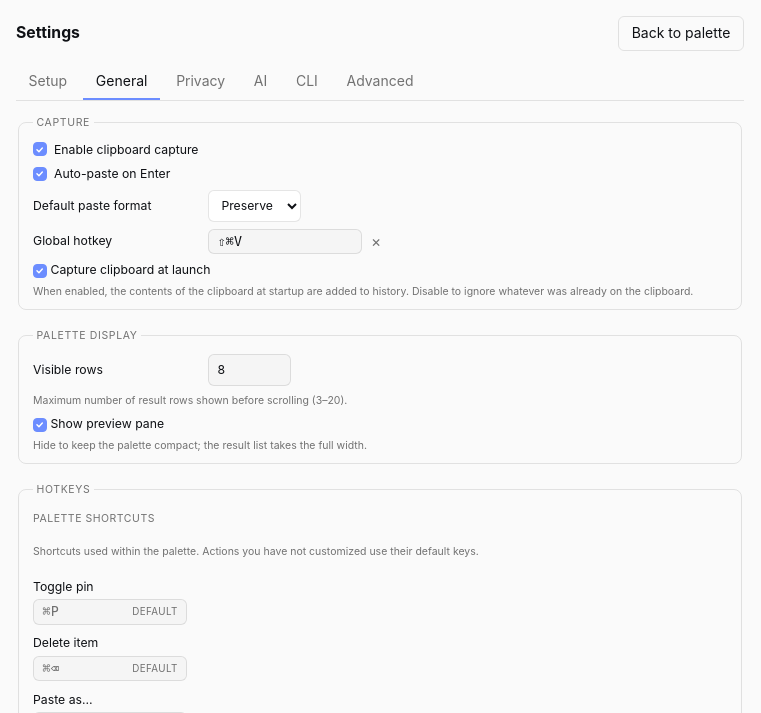
Scenario: SettingsView › still classifies a later external update correctly after the success follow-up dedups
Expected: the button "Back to palette" is shown, left=618, top=16, right=744, bottom=51
# User flips autoPaste (dirty edit). Dispatched as L.
Click the checkbox labelled "Auto-paste on Enter" at coordinates (40, 174), box left=33, top=167, right=47, bottom=181
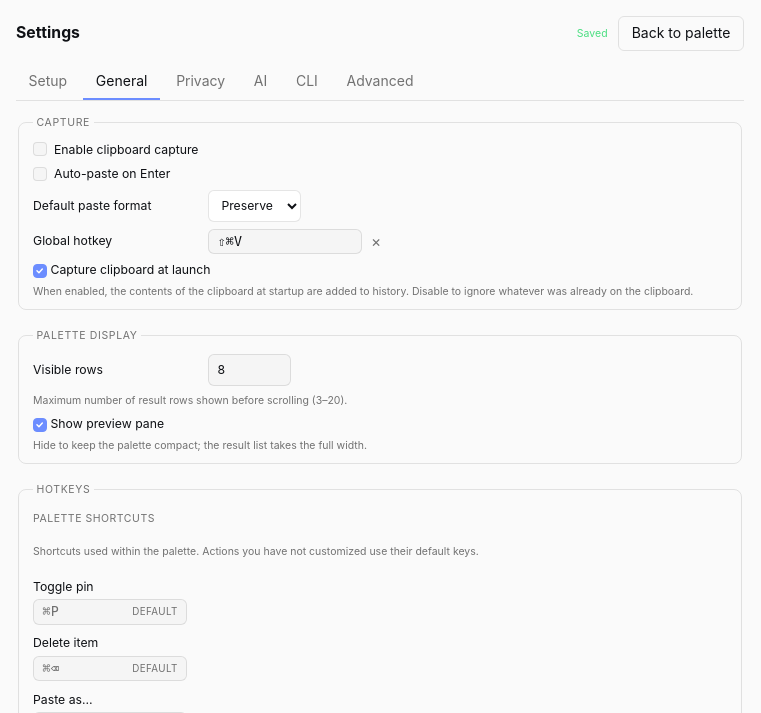
Now the checkbox labelled "Auto-paste on Enter" is not checked, box left=33, top=167, right=47, bottom=181
Now the checkbox labelled "Enable clipboard capture" is not checked, box left=33, top=142, right=47, bottom=156
